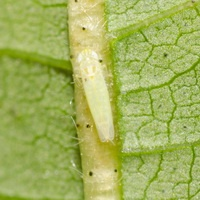insect: (105, 0, 199, 199)
